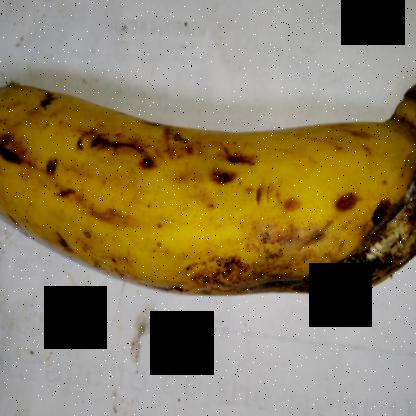ripe: (0, 71, 415, 333)
rotten: (290, 174, 415, 320)
